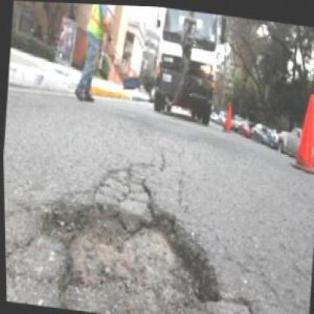Hueco: (29, 186, 232, 313)
